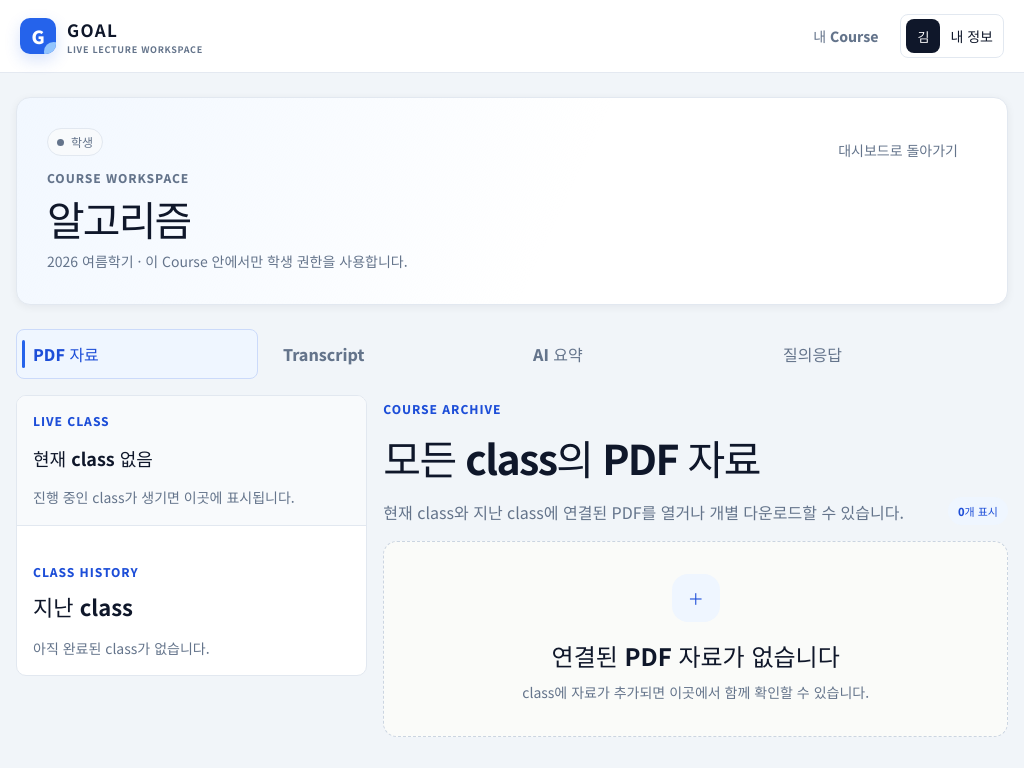
Course workspace shell › shows exactly four archive links and routes each link to its screen
Expected: the heading "모든 class의 PDF 자료" is shown, [383,427,760,487]
Click the link "AI 요약".
click(558, 354)  # box [533,342,583,366]
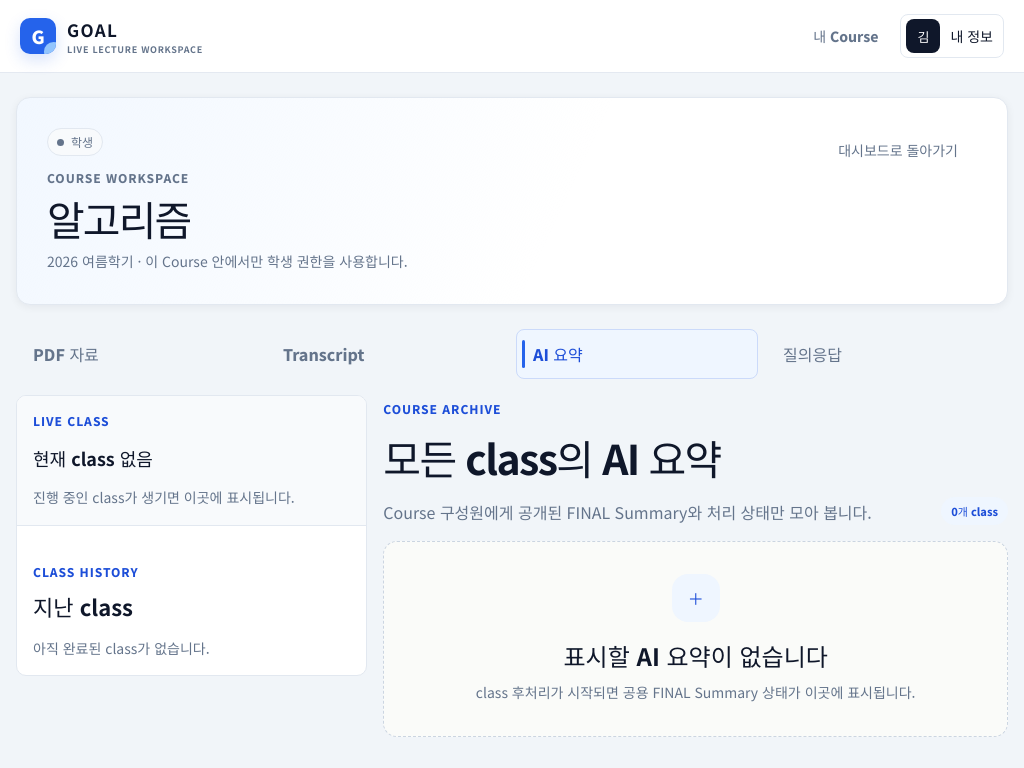
Result: the heading "모든 class의 AI 요약" is shown at [383,427,721,487]
